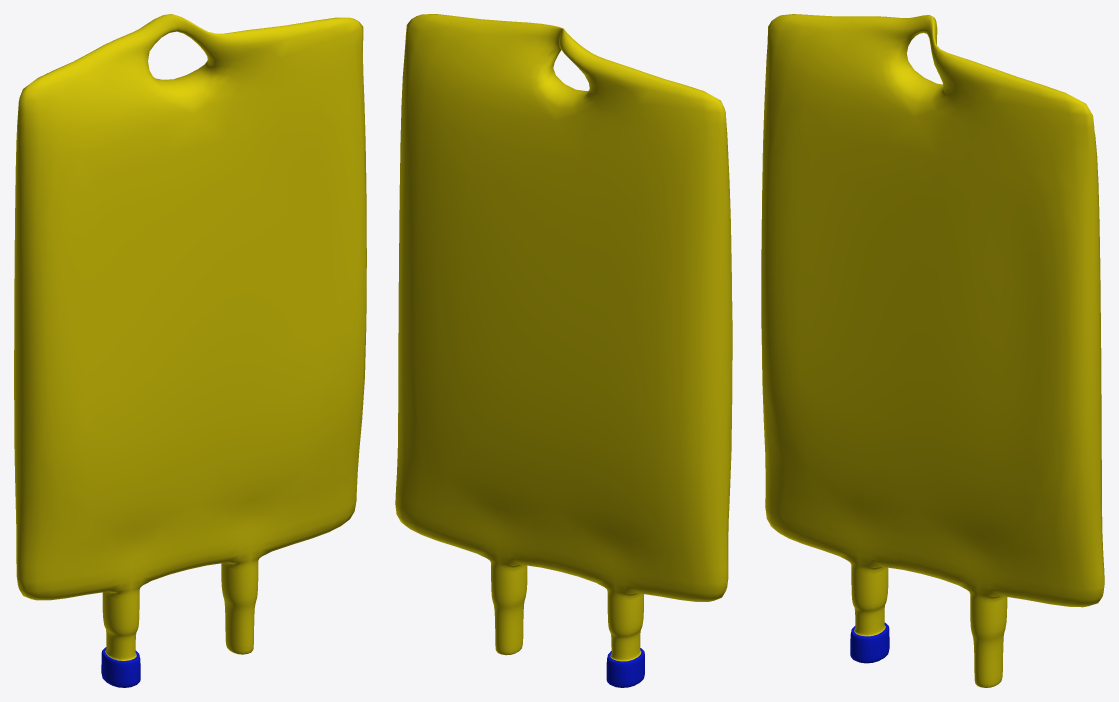
File: Bag.fbx
The picture shows the model from 3 angles, left to right: view 1: azimuth 30°, elevation 25°; view 2: azimuth 150°, elevation 25°; view 3: azimuth 330°, elevation 25°; orthographic projection.
Parts seen in each view (by area): view 1: Bag; view 2: Bag; view 3: Bag.
Boxes of the visible parts, x1=… form: Bag: x1=14, y1=14, x2=366, y2=687; Bag: x1=395, y1=14, x2=732, y2=687; Bag: x1=761, y1=14, x2=1104, y2=687.
Bounding box in the file's own units: 0.1482 × 0.2721 × 0.0301.
